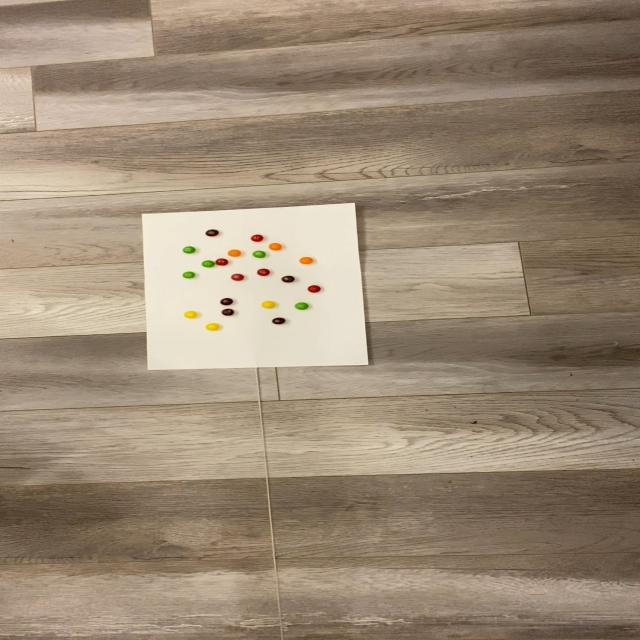smartie: (205, 229, 220, 237), (205, 323, 219, 331), (269, 242, 283, 250), (299, 257, 313, 265), (261, 302, 276, 309), (252, 251, 267, 258), (294, 303, 309, 310), (221, 298, 234, 306), (221, 308, 234, 316), (257, 268, 270, 276), (250, 234, 263, 242), (272, 318, 286, 325), (282, 276, 296, 283), (183, 311, 197, 318), (201, 261, 215, 268), (215, 258, 229, 265), (231, 273, 245, 280), (228, 250, 242, 257), (183, 246, 196, 253), (182, 272, 195, 279), (308, 285, 321, 292)
